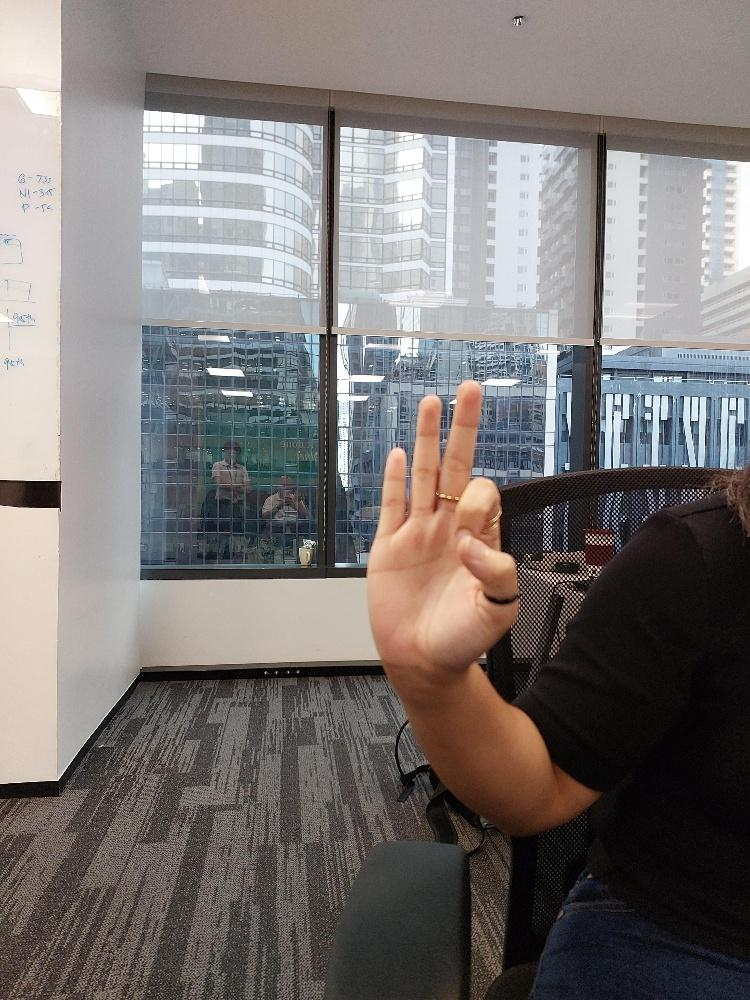f: (363, 375, 525, 683)
